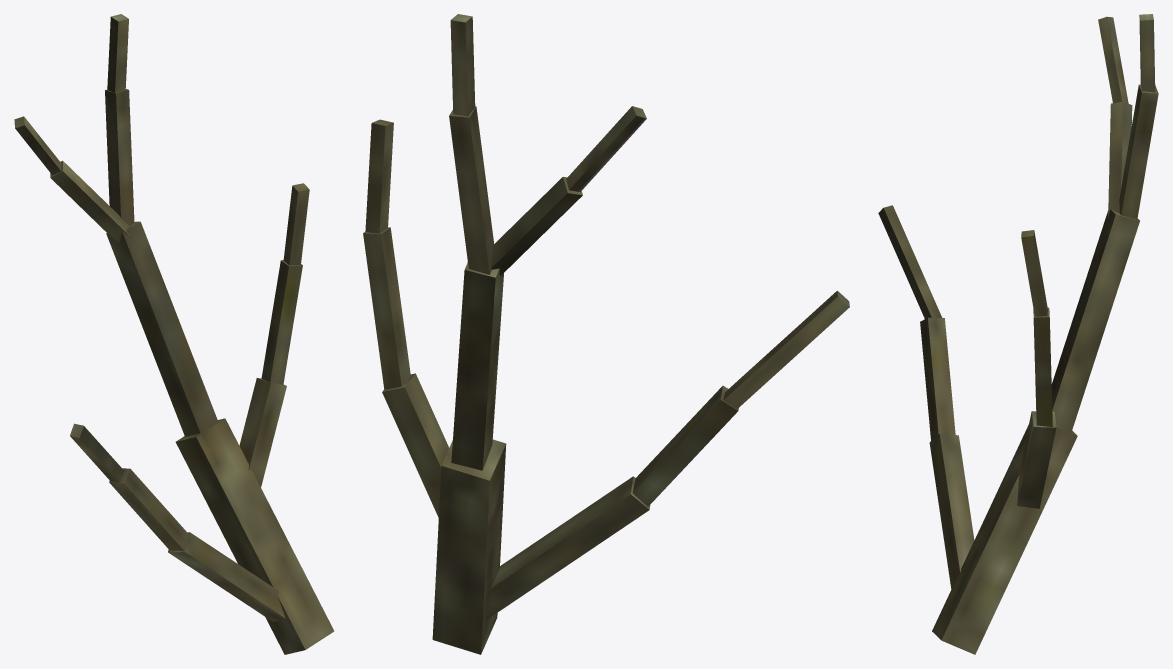
File: poplar_twig_branch_up_2.obj
3 renders of one model, left to right at view 1: azimuth 30°, elevation 25°; view 2: azimuth 150°, elevation 25°; view 3: azimuth 270°, elevation 25°, orthographic. The views are drawn at different scales.
Parts seen in each view (by area): view 1: cube; view 2: cube; view 3: cube.
Part boxes in pixels (x1,y1,x2,y2): cube: [14, 14, 334, 654]; cube: [363, 14, 849, 654]; cube: [878, 14, 1158, 654].
Size of the model in its own units: 1.31 by 2.4 by 1.03.
